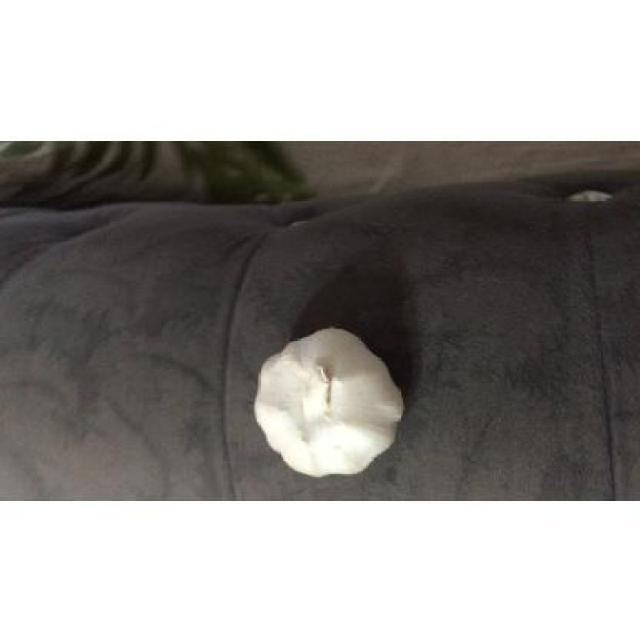garlic: (254, 328, 404, 477)
